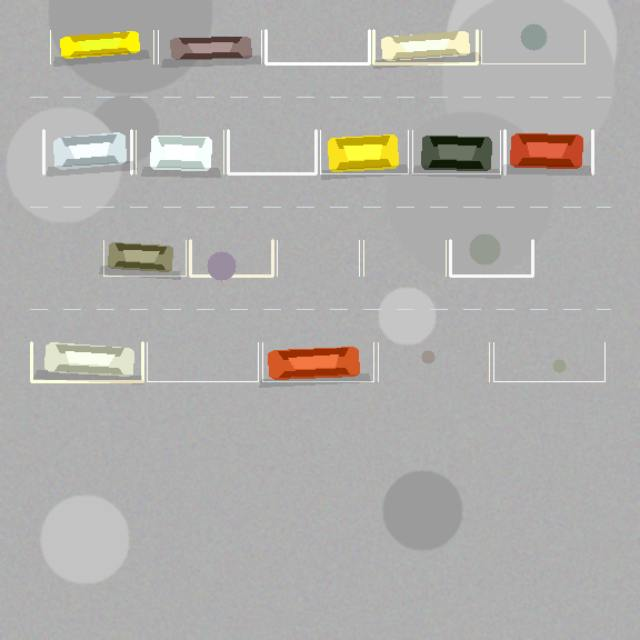space-empty: (147, 342, 258, 381), (378, 342, 489, 381), (493, 342, 604, 381), (228, 130, 316, 173), (266, 30, 369, 63), (481, 30, 584, 63), (363, 240, 446, 276), (190, 240, 272, 276), (277, 240, 359, 276), (450, 240, 532, 276)
space-occupied: (31, 342, 142, 381), (262, 342, 373, 381), (43, 130, 131, 173), (320, 130, 408, 173), (412, 130, 500, 173), (504, 130, 592, 173), (136, 130, 223, 173), (373, 30, 477, 63), (50, 30, 153, 63), (158, 30, 261, 63), (103, 240, 186, 276)
